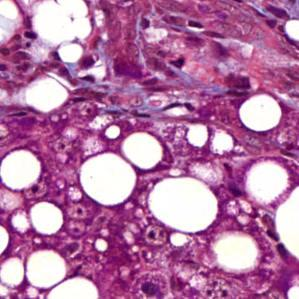steatosis: (150, 171, 223, 237), (80, 152, 136, 205), (0, 150, 52, 191), (30, 201, 72, 240)
